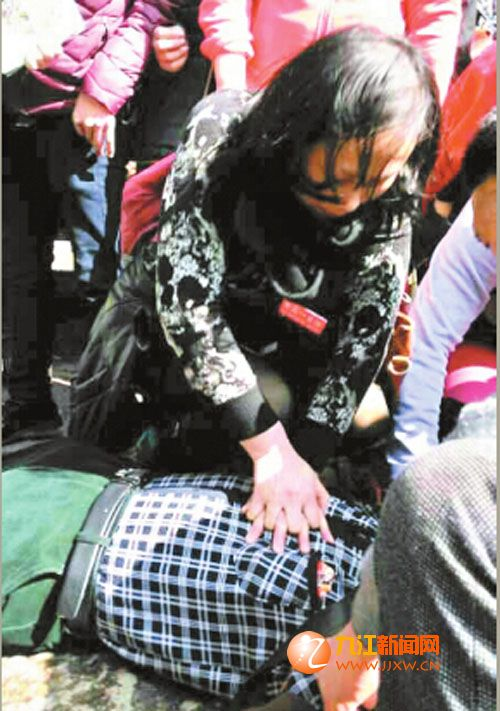fall: (17, 382, 427, 703)
